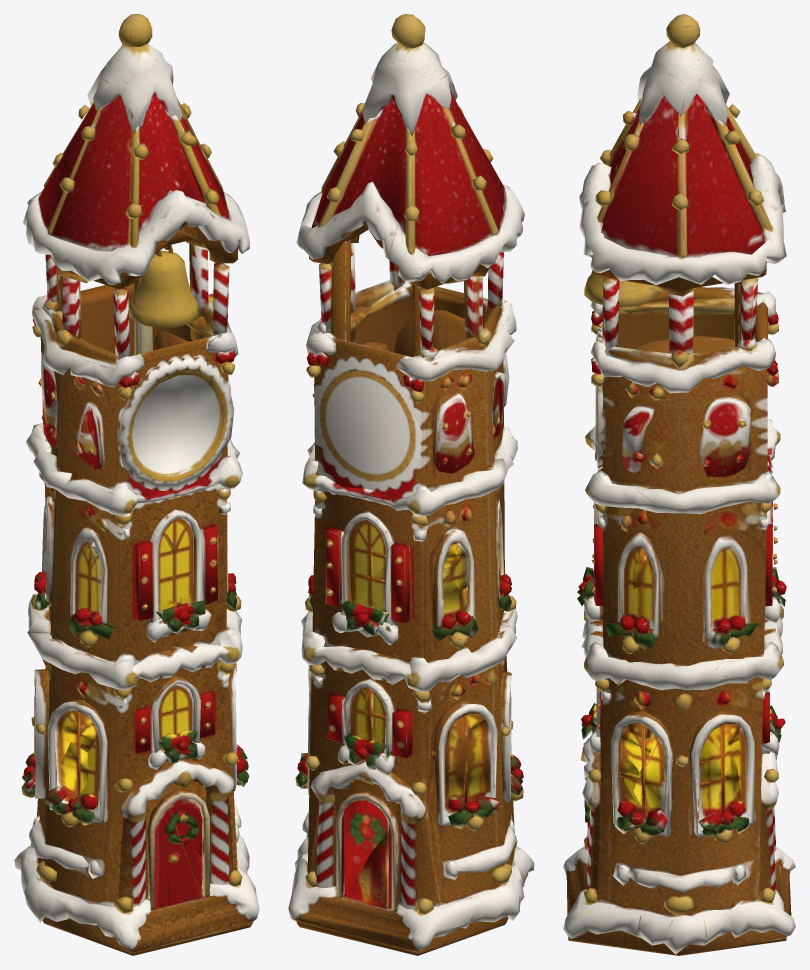
Rendered from AW-XMAS-CLOCKTOWER-001-v0.2.glb.
3 views of the same model, side by side, from view 1: azimuth 30°, elevation 25°; view 2: azimuth 150°, elevation 25°; view 3: azimuth 270°, elevation 25° (orthographic).
Parts seen in each view (by area): view 1: AW-XMAS-CLOCKTOWER-001_meter_ground_pivot; view 2: AW-XMAS-CLOCKTOWER-001_meter_ground_pivot; view 3: AW-XMAS-CLOCKTOWER-001_meter_ground_pivot.
Part boxes in pixels (bbox=[...]): AW-XMAS-CLOCKTOWER-001_meter_ground_pivot: bbox=[14, 14, 259, 955]; AW-XMAS-CLOCKTOWER-001_meter_ground_pivot: bbox=[288, 14, 534, 955]; AW-XMAS-CLOCKTOWER-001_meter_ground_pivot: bbox=[563, 14, 795, 955].
Bounding box in the file's own units: 4.05 × 16 × 3.76.
1 material, 1 textured.
